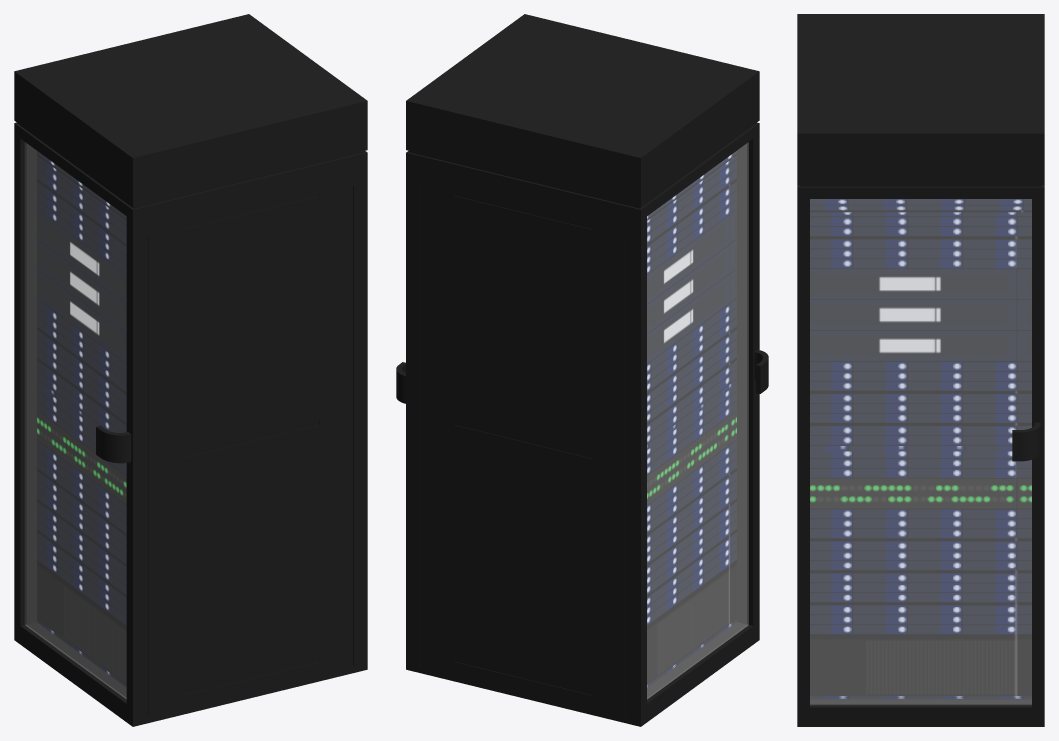
File: CO_DataCenter.glb
The picture shows the model from 3 angles, left to right: view 1: azimuth 30°, elevation 25°; view 2: azimuth 150°, elevation 25°; view 3: azimuth 270°, elevation 25°; orthographic projection. The views are drawn at different scales.
Parts seen in each view (by area): view 1: Object_2, Object_4, Object_3, Object_5; view 2: Object_2, Object_4, Object_3, Object_5; view 3: Object_4, Object_3, Object_2, Object_5.
Boxes of the visible parts, x1,y1,x2,y2 form: Object_2: (14, 14, 367, 726); Object_4: (25, 142, 126, 698); Object_3: (37, 151, 126, 687); Object_5: (96, 426, 131, 463); Object_2: (406, 14, 759, 726); Object_4: (647, 142, 748, 698); Object_3: (647, 151, 736, 687); Object_5: (396, 350, 768, 403); Object_4: (810, 199, 1031, 704); Object_3: (810, 199, 1031, 699); Object_2: (797, 14, 1044, 726); Object_5: (1012, 422, 1040, 461).
Bounding box in the file's own units: 1.16 × 2.31 × 0.875.
3 materials, 1 textured.
